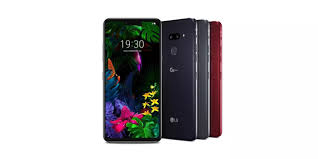lg: (100, 12, 162, 148)
